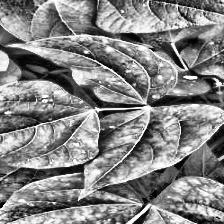Bean Rust: (18, 35, 196, 99), (87, 105, 224, 183), (0, 83, 101, 167), (0, 172, 145, 224), (138, 177, 224, 224), (99, 0, 224, 27), (0, 169, 65, 216)
